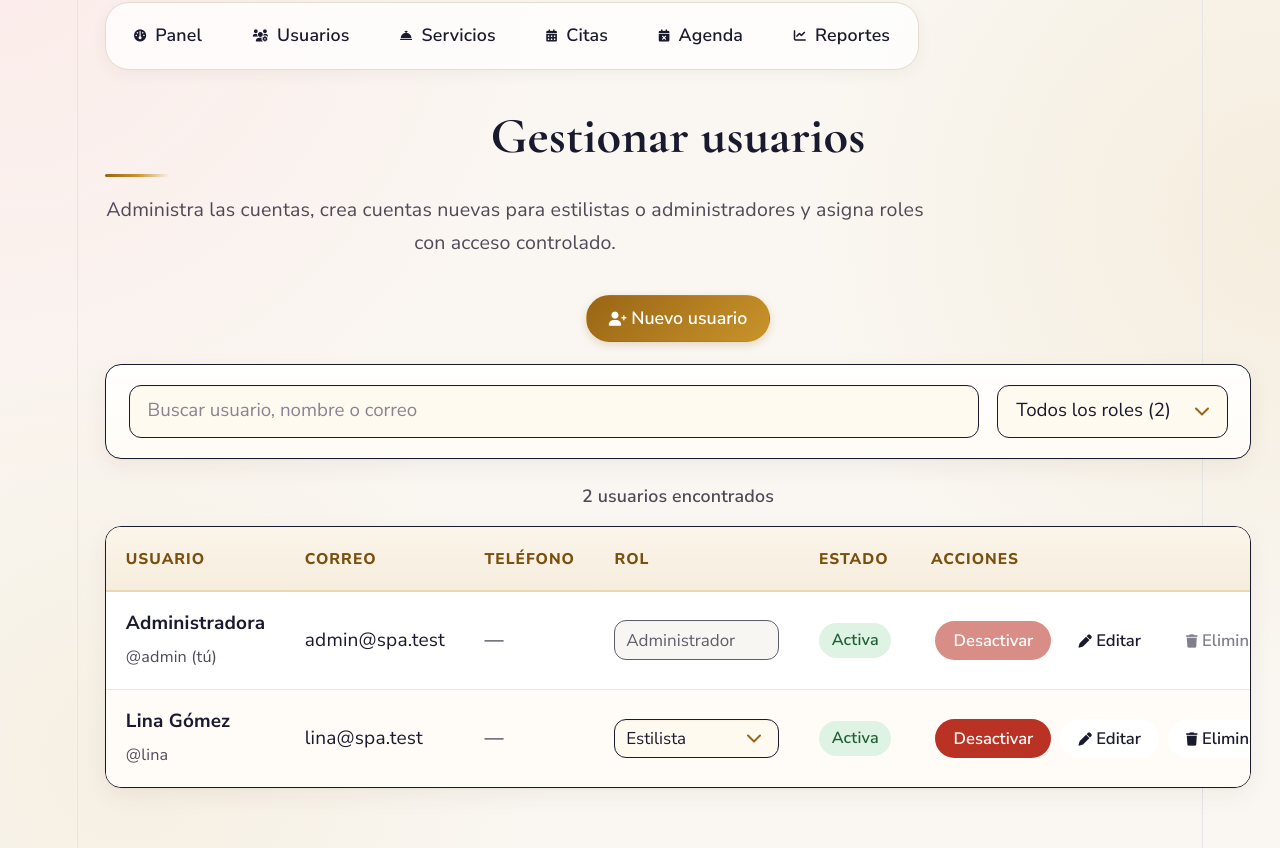
Test: AdminUsers › edita nombre, correo y teléfono; si falla, conserva el formulario
Expected: the text "Lina Gómez" is shown, [126,708,230,734]
Click the button with aria-label "Editar a lina" at (1110, 738), box [1060,719,1159,758]
(page scrolled)
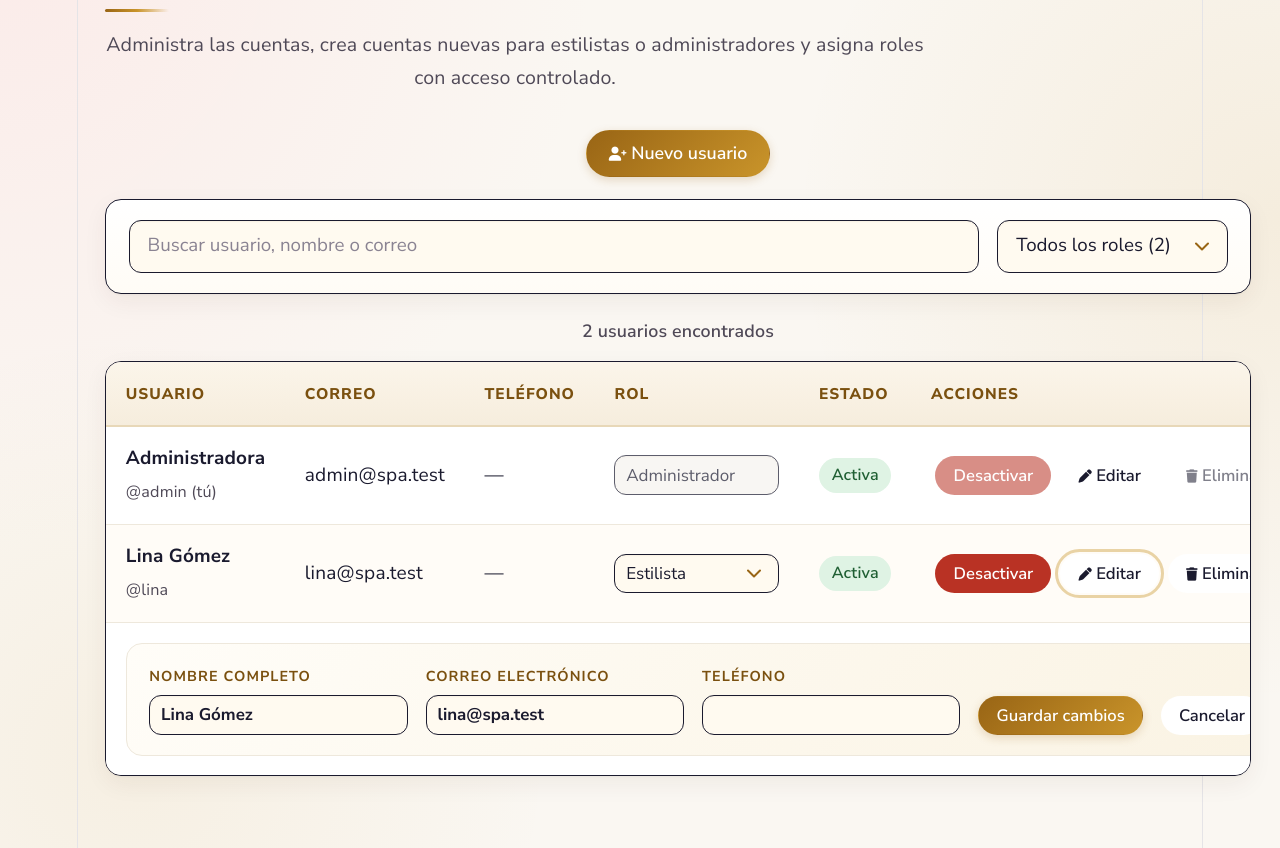
Type "300 555" into the field labelled "Teléfono" at (831, 715), box [702,695,960,735]
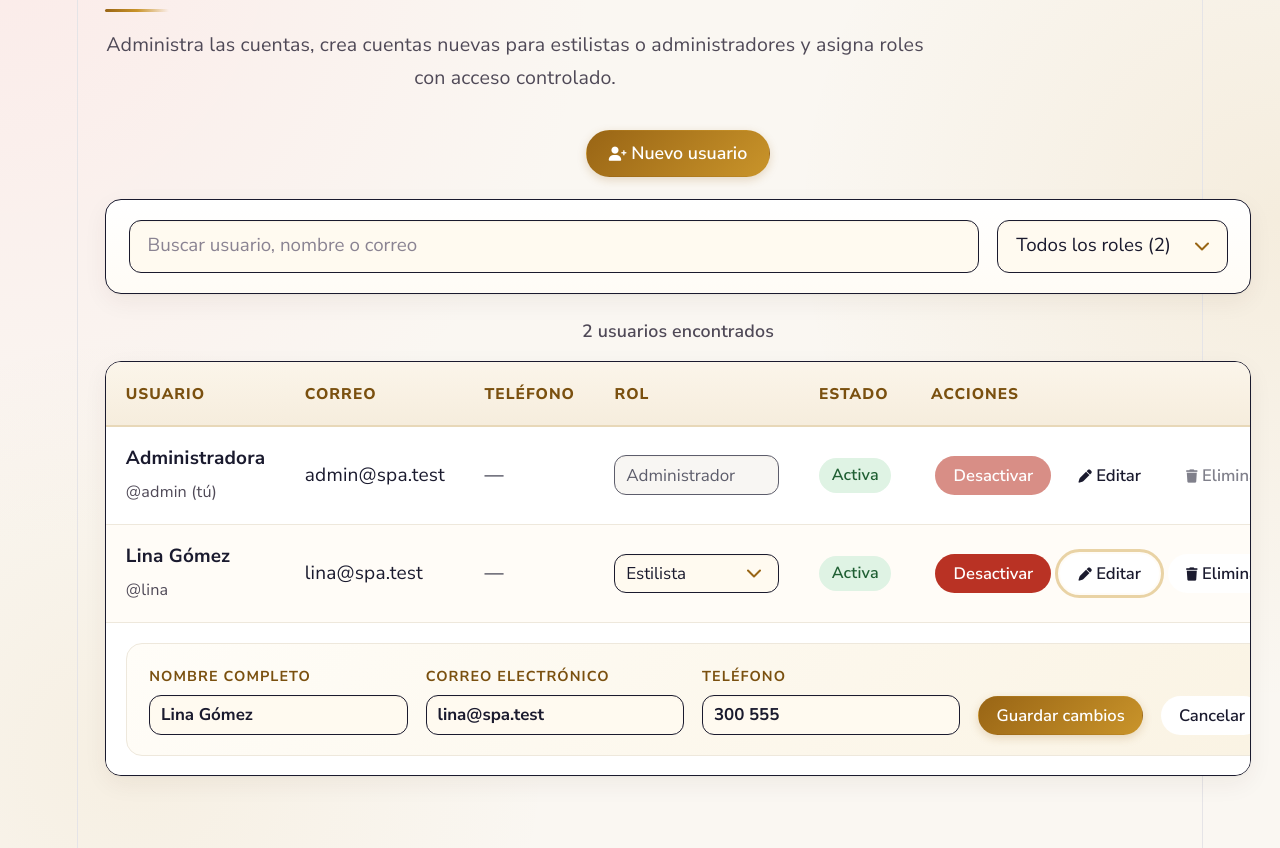
Click the button "Guardar cambios" at (1061, 715), box [978,696,1143,735]
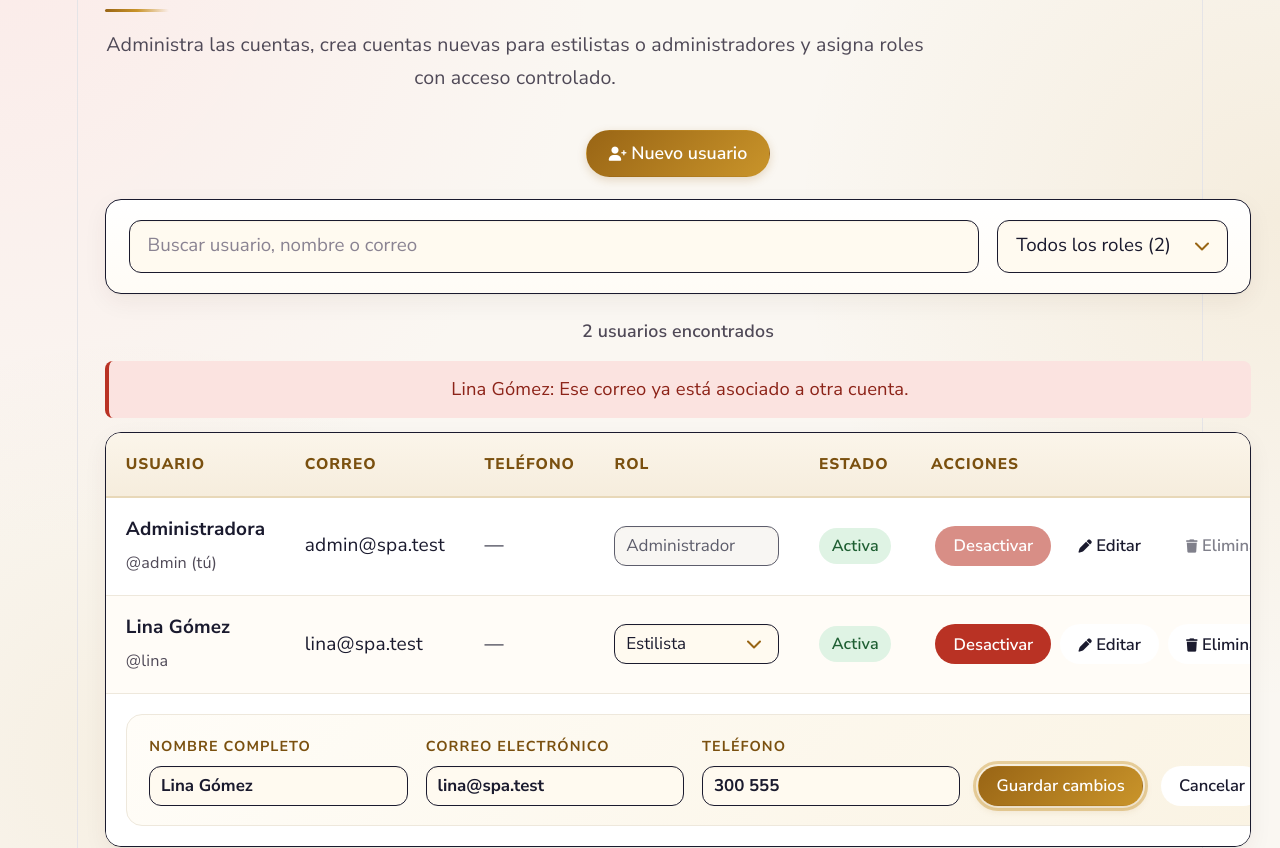
Expected: the message shows "Ese correo ya está asociado a otra cuenta.", [451,376,909,401]
Click the button "Guardar cambios" at (1061, 786), box [978,766,1143,806]
(page scrolled)
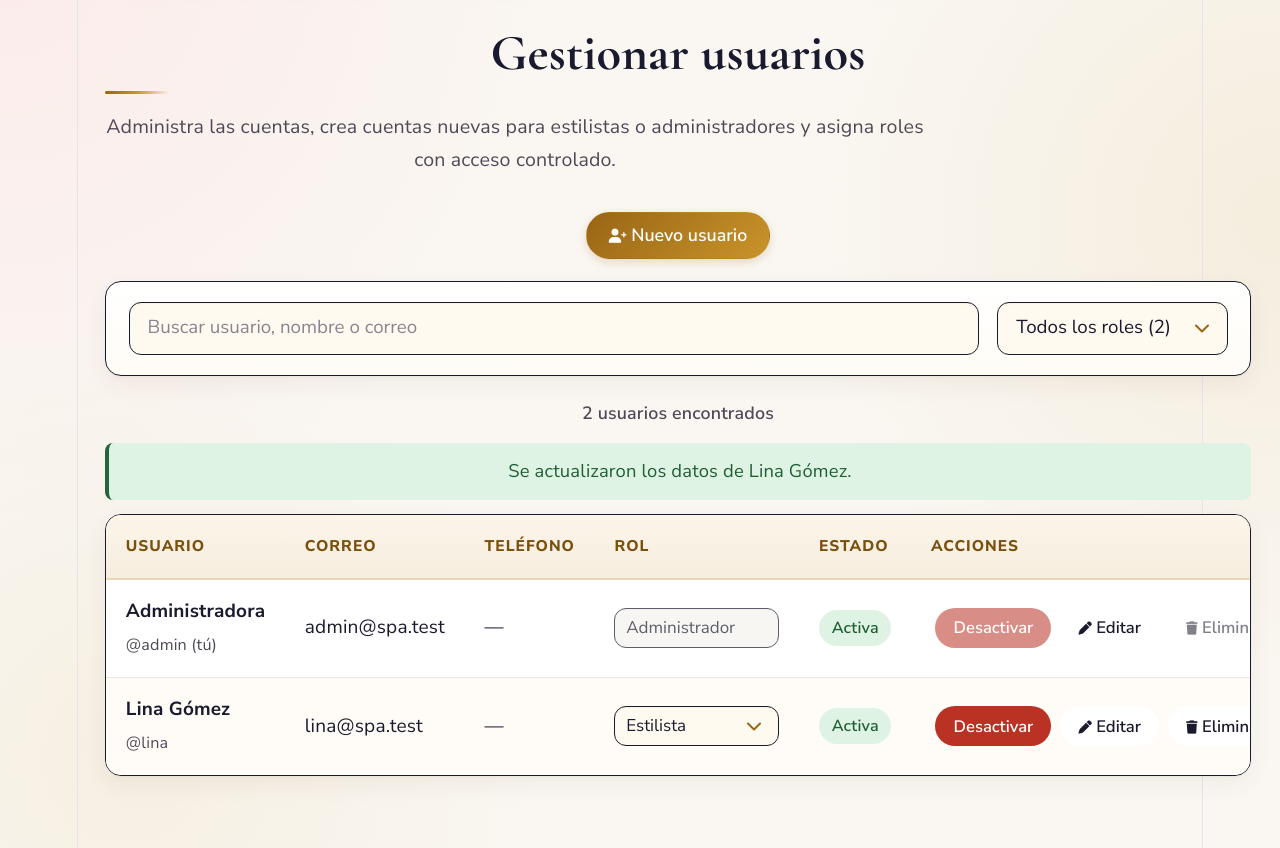
Expected: the message reads "Se actualizaron los datos de Lina Gómez.", [508,458,852,483]
